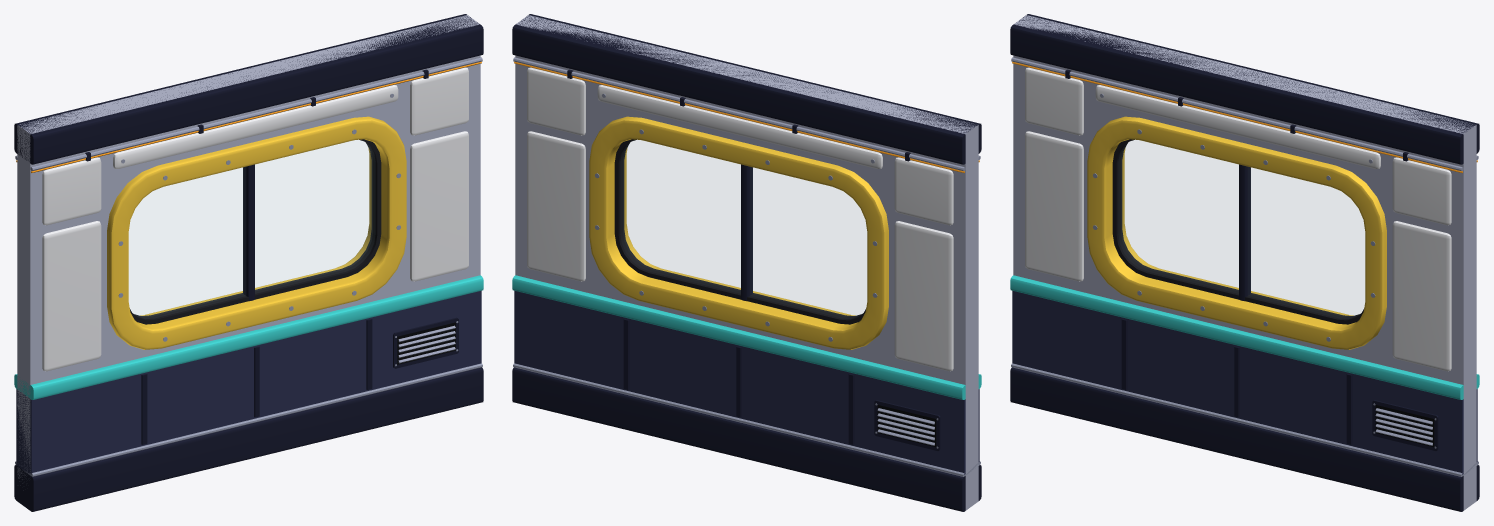
File: wall_window.glb
3 views of the same model, side by side, from view 1: azimuth 30°, elevation 25°; view 2: azimuth 150°, elevation 25°; view 3: azimuth 330°, elevation 25° (orthographic).
Parts seen in each view (by area): view 1: Body; view 2: Body; view 3: Body.
Boxes of the visible parts, box(x1,y1,x2,y2) form: Body: box(14, 14, 483, 511); Body: box(512, 14, 981, 511); Body: box(1010, 14, 1479, 511).
Size of the model in its own units: 4 by 3.2 by 0.34.
